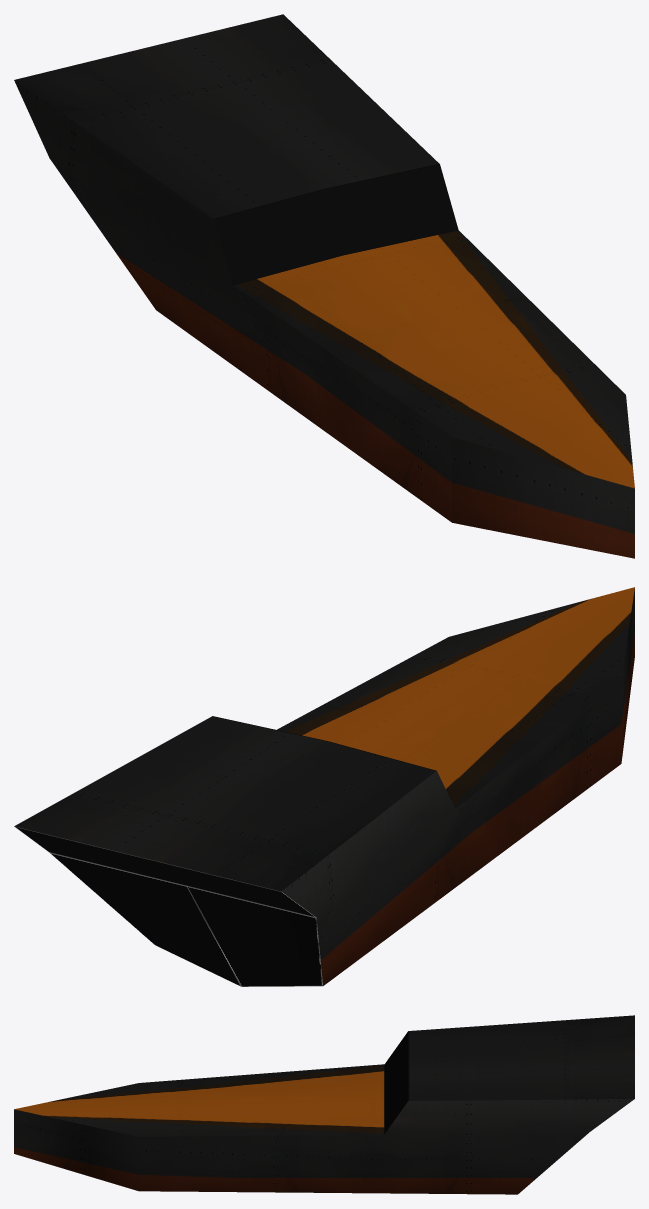
Rendered from speederBoat02_ORANGE.fbx.
3 views of the same model, one above another, from view 1: azimuth 30°, elevation 25°; view 2: azimuth 150°, elevation 25°; view 3: azimuth 270°, elevation 25° (orthographic). The views are drawn at different scales.
Parts seen in each view (by area): view 1: pCube1; view 2: pCube1; view 3: pCube1.
Part boxes in pixels (bbox=[...]): pCube1: bbox=[14, 14, 634, 558]; pCube1: bbox=[14, 587, 634, 986]; pCube1: bbox=[14, 1015, 634, 1194].
Bounding box in the file's own units: 12.45 × 8.64 × 39.11.
Materials: 1 (1 with a texture image).
